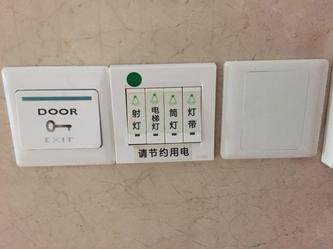switch: (12, 86, 109, 152), (125, 87, 147, 146), (145, 86, 165, 145), (182, 87, 202, 143), (165, 87, 183, 144)
